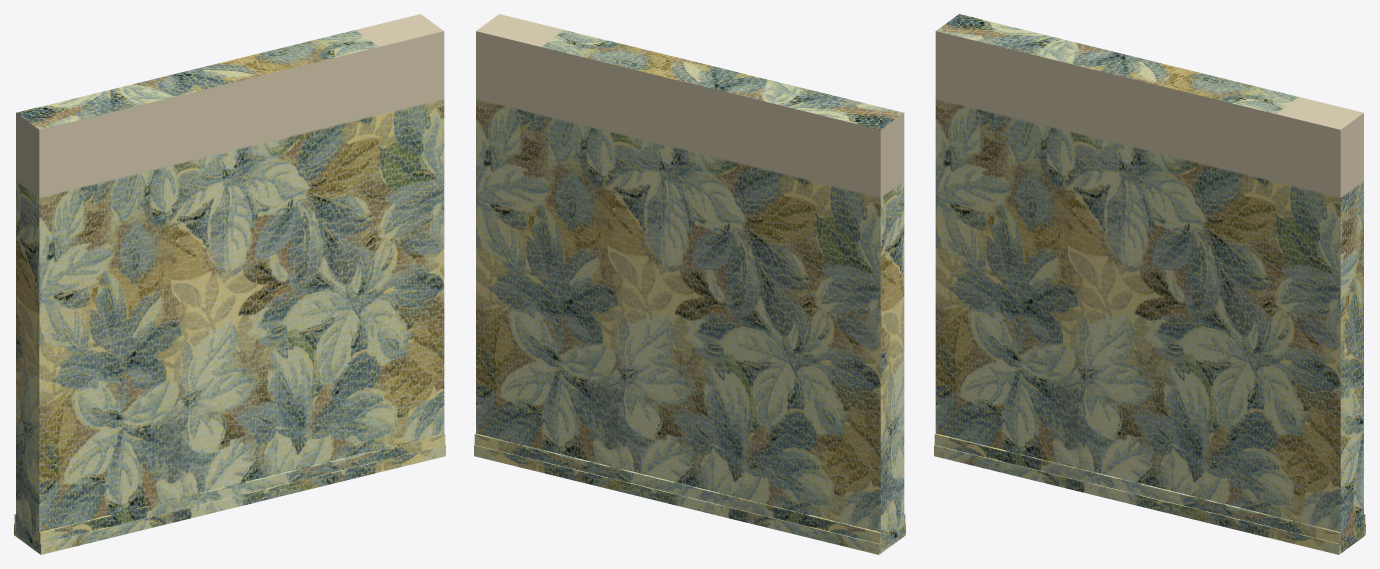
File: wall_right.obj
The picture shows the model from 3 angles, left to right: view 1: azimuth 30°, elevation 25°; view 2: azimuth 150°, elevation 25°; view 3: azimuth 330°, elevation 25°; orthographic projection.
Visible parts, largest first — view 1: Box001; view 2: Box001; view 3: Box001.
Part boxes in pixels (x1,y1,x2,y2): Box001: (14, 14, 445, 554); Box001: (474, 14, 905, 554); Box001: (934, 14, 1365, 554).
Bounding box in the file's own units: 39.37 × 39.37 × 4.54.
